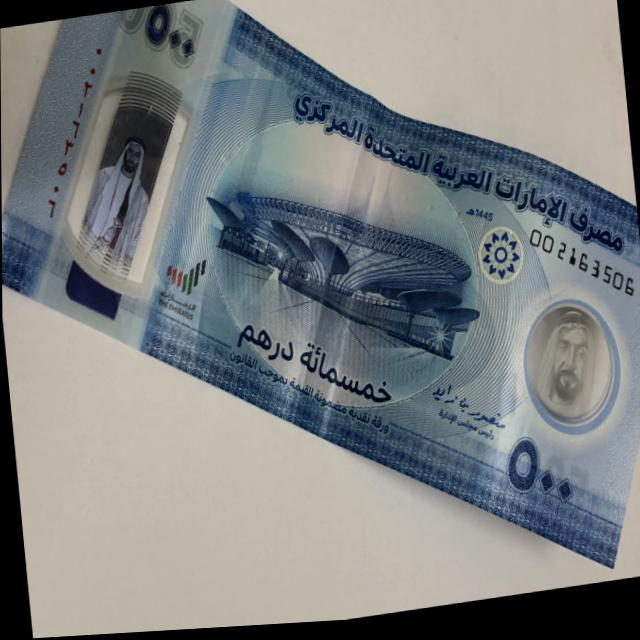500_AED: (2, 0, 640, 573)
